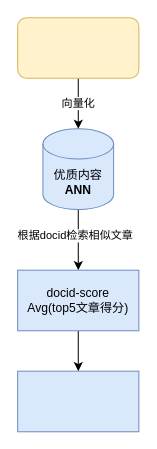
Some shapes in this 157 by 449 pixel diagram are drawn without their labels. Here are the shapes that lost their labels. From the top down, the centre of each, then its label:
At (x=78, y=47): "NH过审文章".
At (x=78, y=401): "倒排生成召回队列".
